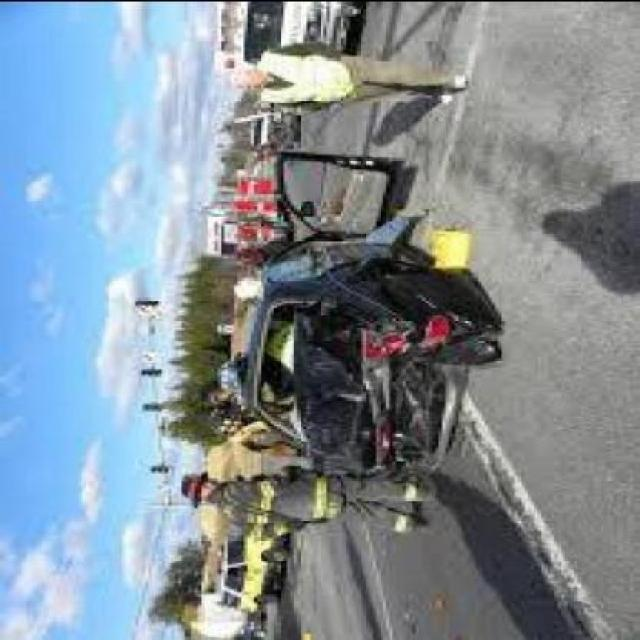damage: (301, 277, 503, 480)
